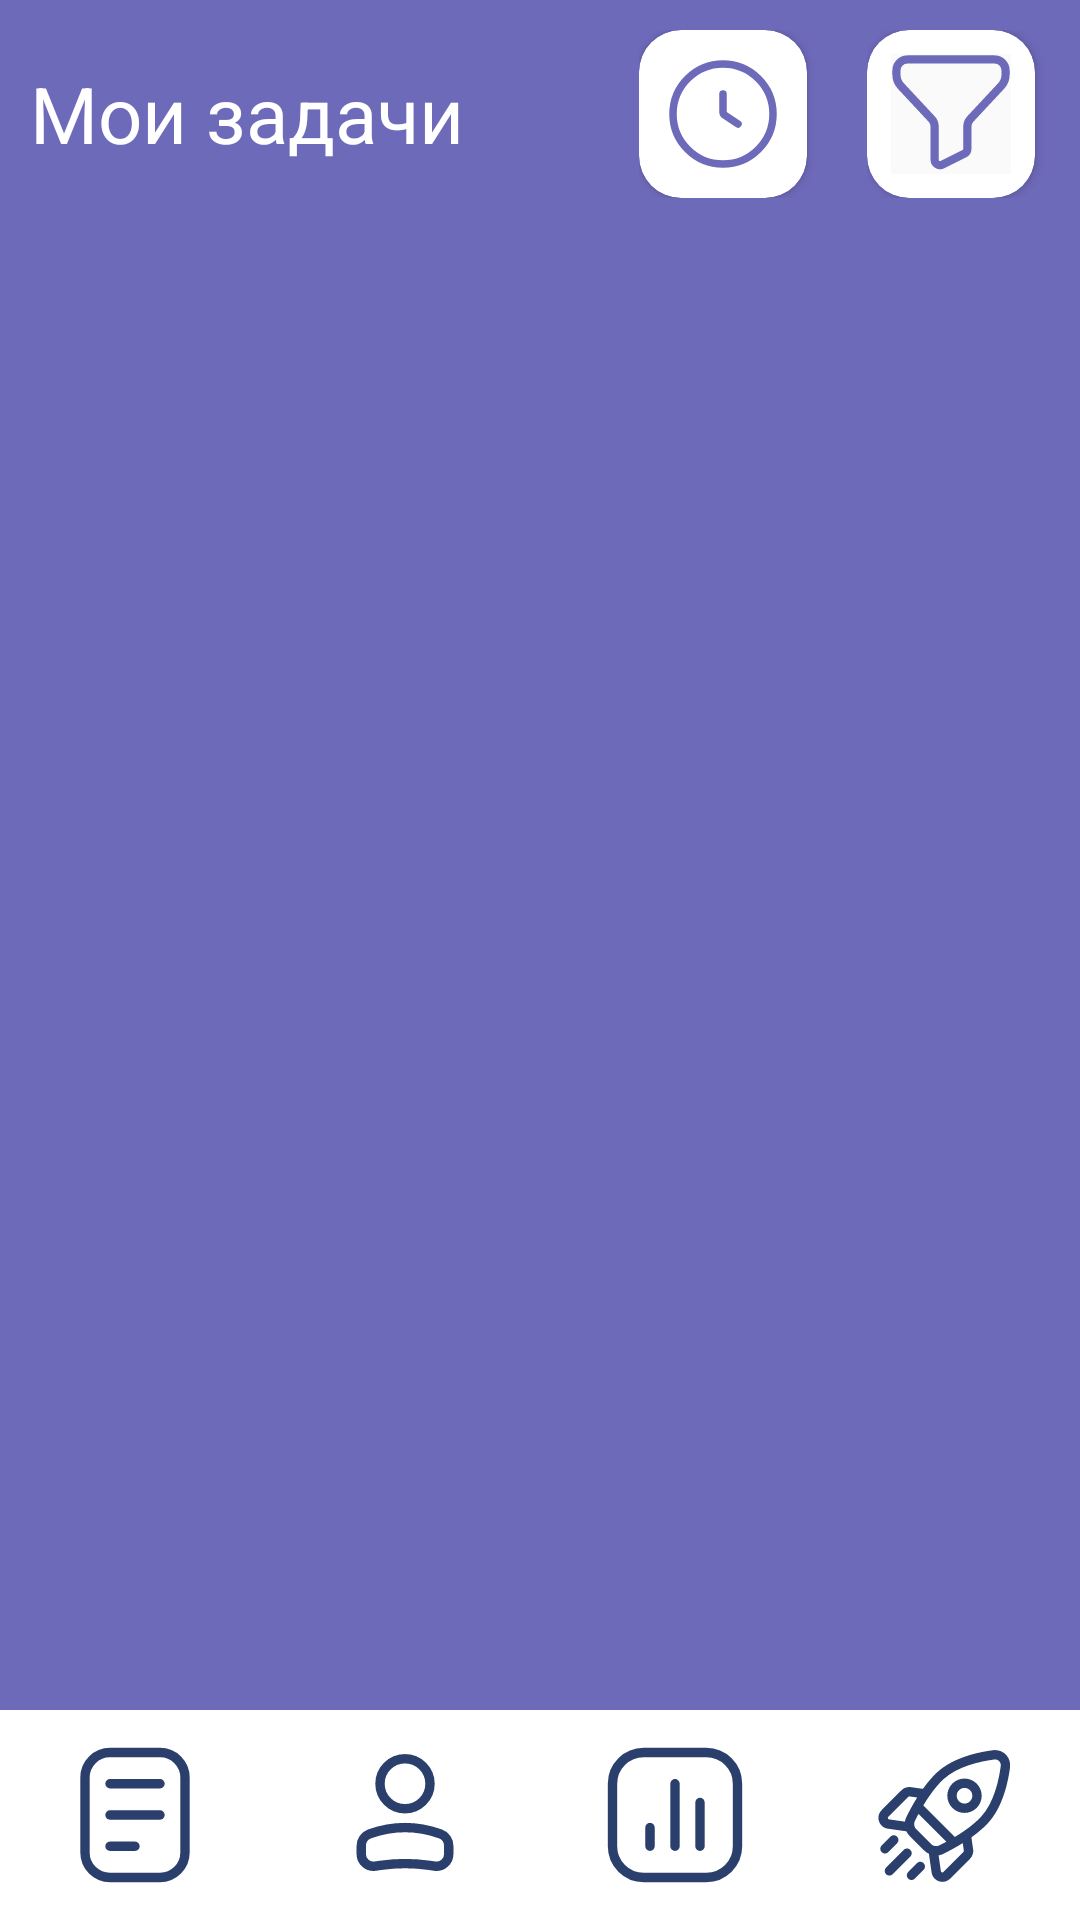

Named icons in this screenshot (1080w x 1920h) and their centers, (x=x, y=y):
filter asc: (x=951, y=112)
list: (x=135, y=1815)
profile: (x=405, y=1812)
statistics: (x=675, y=1815)
timer: (x=723, y=114)
